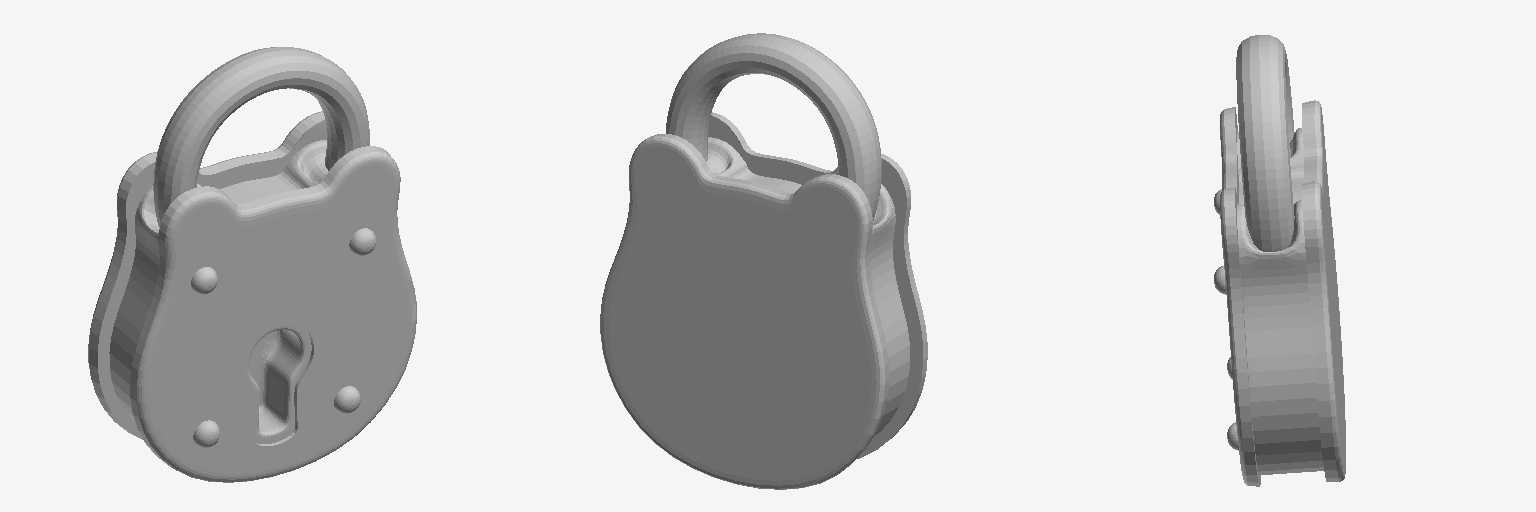
The model's file is cadena .obj.
3 renders of one model, left to right at view 1: azimuth 30°, elevation 25°; view 2: azimuth 150°, elevation 25°; view 3: azimuth 270°, elevation 25°, orthographic.
Visible parts, largest first — view 1: 16885_Old_Padlock_new; view 2: 16885_Old_Padlock_new; view 3: 16885_Old_Padlock_new.
Boxes of the visible parts, box(x1,y1,x2,y2) form: 16885_Old_Padlock_new: box(88, 47, 416, 482); 16885_Old_Padlock_new: box(600, 33, 927, 489); 16885_Old_Padlock_new: box(1214, 35, 1345, 486).
Size of the model in its own units: 2.3 by 3.25 by 0.9263.